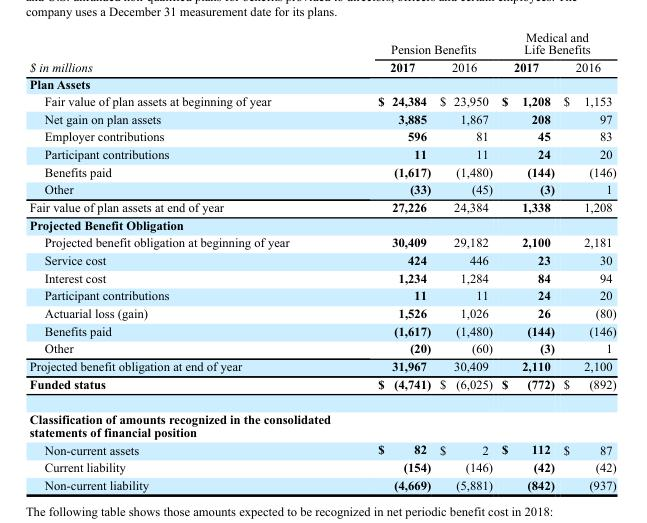table: (28, 29, 615, 491)
table column: (28, 29, 332, 491), (332, 29, 434, 491), (434, 29, 496, 491), (496, 29, 558, 491), (558, 29, 615, 491)
table column header: (28, 29, 615, 75)
table projected row header: (28, 401, 615, 440), (28, 215, 615, 233), (28, 75, 615, 92)
table row: (28, 401, 615, 440), (28, 29, 615, 57), (28, 374, 615, 401), (28, 57, 615, 75), (28, 109, 615, 127), (28, 144, 615, 162), (28, 162, 615, 180), (28, 197, 615, 215), (28, 215, 615, 233), (28, 250, 615, 268), (28, 268, 615, 286), (28, 303, 615, 321), (28, 321, 615, 339), (28, 339, 615, 357), (28, 457, 615, 475), (28, 75, 615, 92), (28, 92, 615, 109), (28, 127, 615, 144), (28, 180, 615, 197), (28, 233, 615, 250), (28, 286, 615, 303), (28, 357, 615, 374), (28, 440, 615, 457), (28, 475, 615, 491)
table spanning cell: (28, 29, 332, 75), (332, 29, 496, 57), (496, 29, 615, 57)
